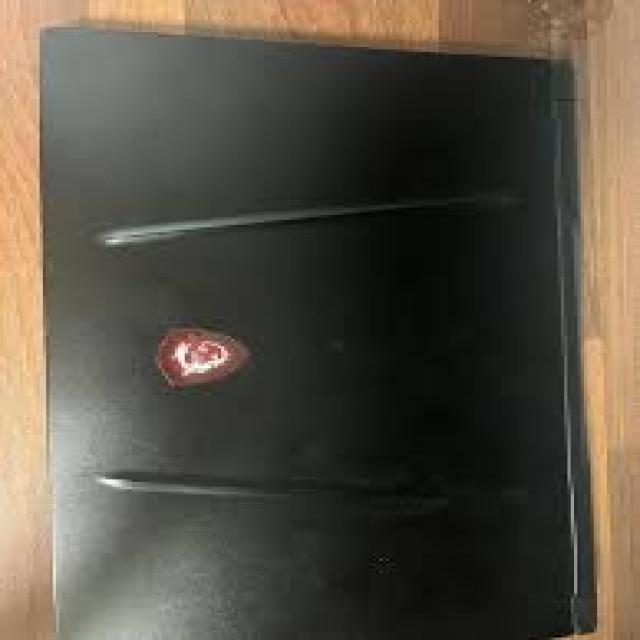laptop: (39, 22, 604, 640)
